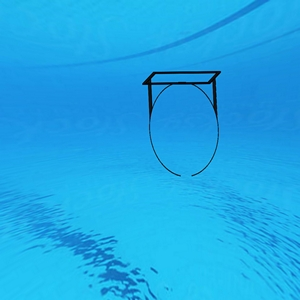circle: (141, 70, 226, 180)
